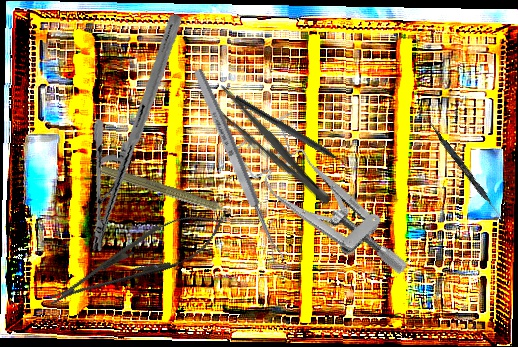Chopper: (229, 95, 355, 177)
Dressing Forceps: (194, 74, 340, 213)
Handpiece: (98, 162, 244, 225)
Needle Holder: (51, 13, 221, 253), (40, 198, 233, 322)
Spatula Surgical: (423, 117, 508, 224)
Speculum: (230, 97, 412, 314)
Surgical Spoon: (191, 67, 285, 264)
